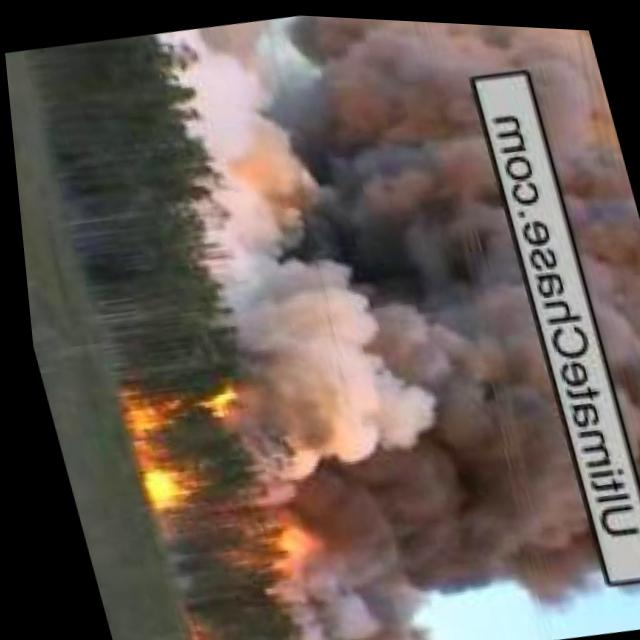Fire: (106, 368, 260, 506), (247, 496, 334, 577), (181, 636, 221, 640)
